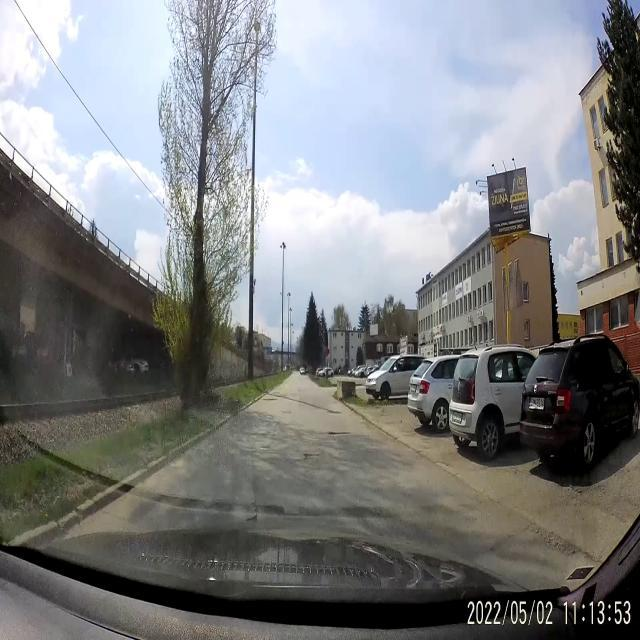Pothole: (325, 429, 353, 439), (304, 450, 322, 459), (287, 457, 302, 463)
